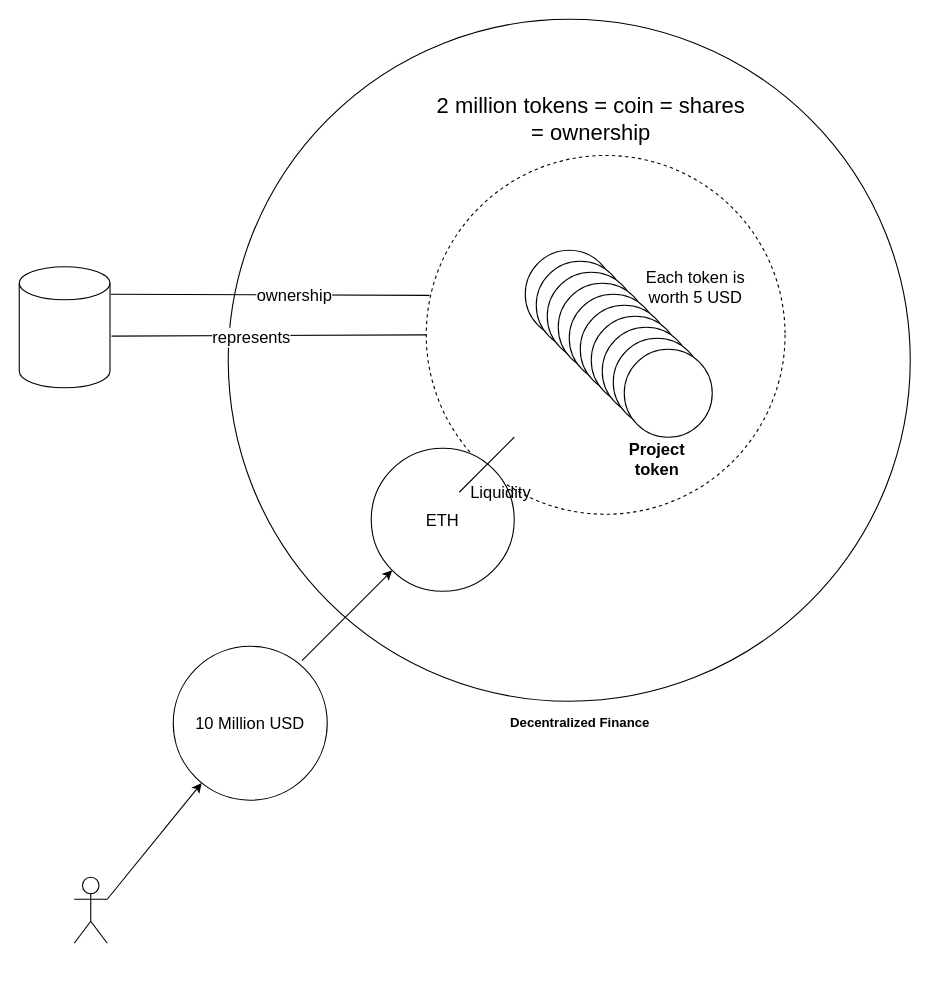
Some shapes in this 930 by 997 pixel diagram are drawn without their labels. The shapes that lost their labels are listed below. From the top down, each one's centre as x and y in pixels, then its label:
the point at 64,327: Project
the point at 90,909: Alex
